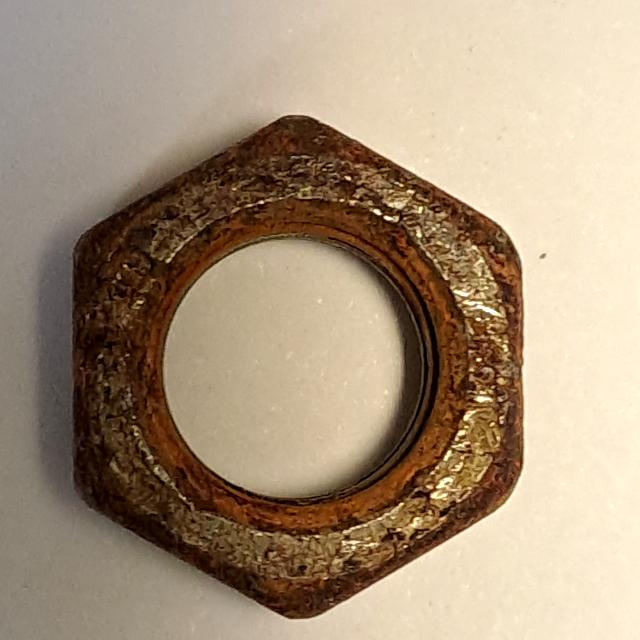Rust: (53, 96, 545, 635)
